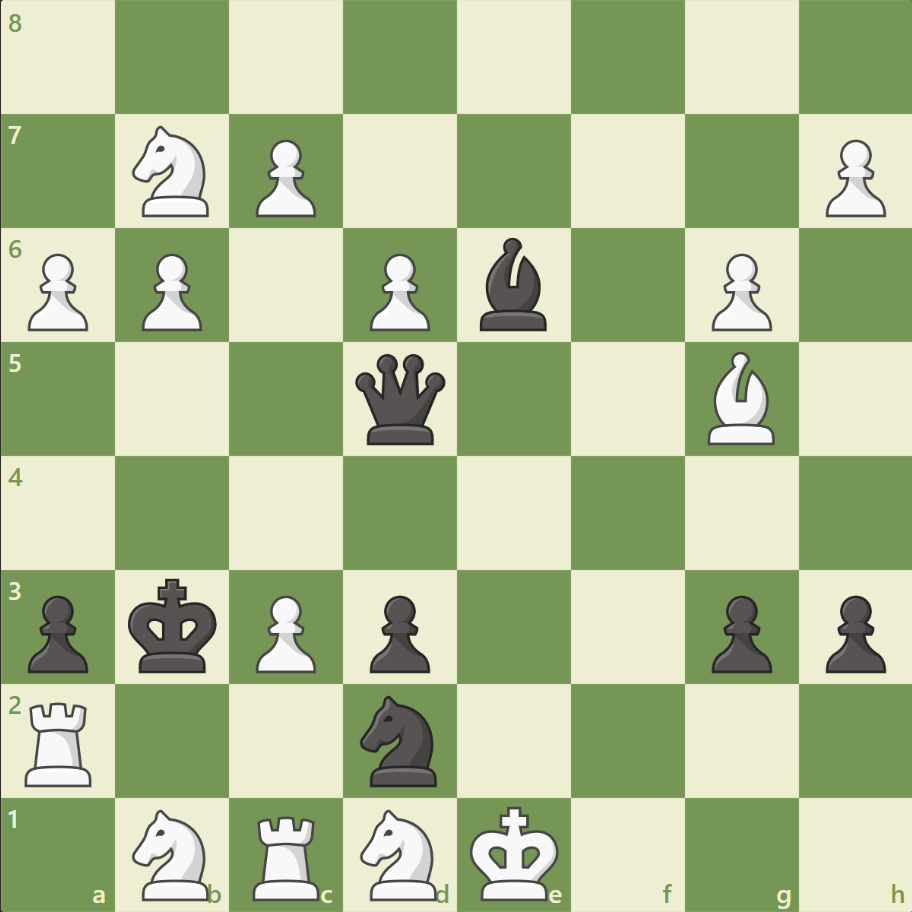B: (698, 347, 782, 449)
K: (465, 798, 565, 906)
N: (124, 121, 222, 223), (124, 802, 222, 904), (351, 802, 449, 904)
P: (247, 132, 322, 223), (20, 246, 95, 337), (133, 246, 208, 337), (701, 246, 776, 337), (247, 586, 322, 677), (815, 132, 889, 223), (361, 246, 435, 337)
R: (246, 806, 329, 904), (19, 693, 102, 790)
b: (471, 233, 555, 336)
k: (124, 571, 224, 679)
n: (351, 688, 449, 791)
p: (20, 586, 95, 677), (701, 586, 776, 677), (361, 586, 435, 677), (815, 586, 889, 677)
q: (351, 349, 450, 449)
